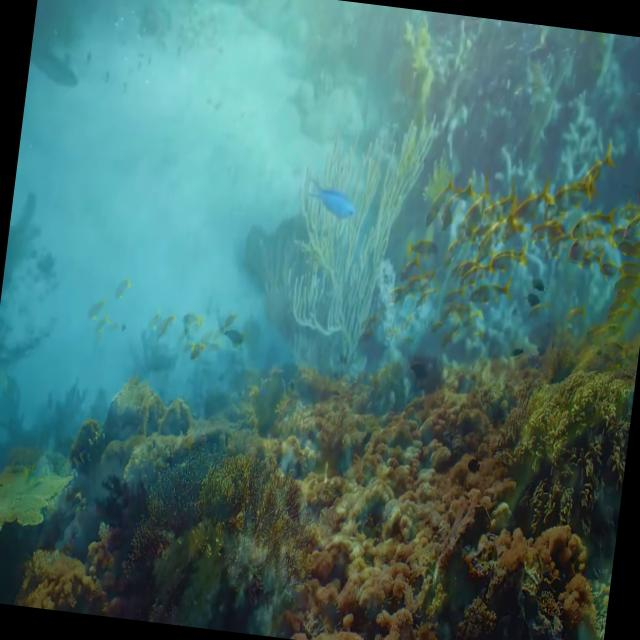fish: (299, 180, 360, 227), (473, 202, 515, 264), (459, 168, 496, 235), (466, 270, 516, 318), (485, 229, 535, 277), (555, 163, 604, 210), (418, 168, 454, 230), (536, 222, 578, 274), (572, 198, 616, 244), (514, 176, 556, 222), (406, 228, 443, 262), (621, 195, 640, 246), (598, 136, 622, 170)
